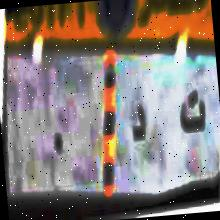0: (50, 119, 66, 165)
daal: (128, 102, 150, 147)
taa: (175, 82, 210, 144)
